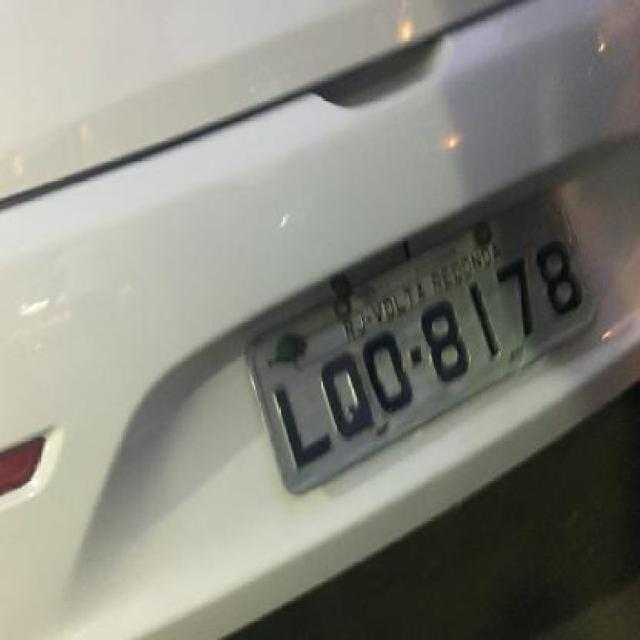old_plate: (236, 180, 602, 502)
